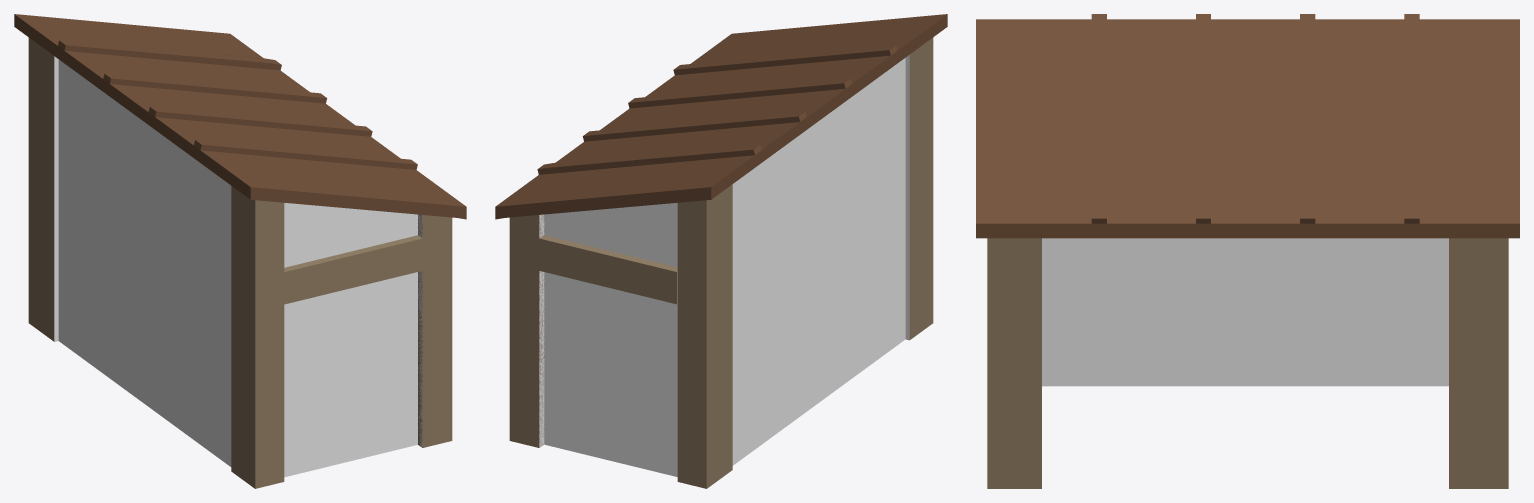
Rendered from shop_colored.fbx.
3 renders of one model, left to right at view 1: azimuth 30°, elevation 25°; view 2: azimuth 150°, elevation 25°; view 3: azimuth 270°, elevation 25°, orthographic. The views are drawn at different scales.
Visible parts, largest first — view 1: Cube; view 2: Cube; view 3: Cube.
Part boxes in pixels (left/top/right/bottom): Cube: left=14, top=14, right=466, bottom=488; Cube: left=495, top=14, right=947, bottom=488; Cube: left=976, top=14, right=1519, bottom=488.
Bounding box in the file's own units: 221 × 303 × 415.
